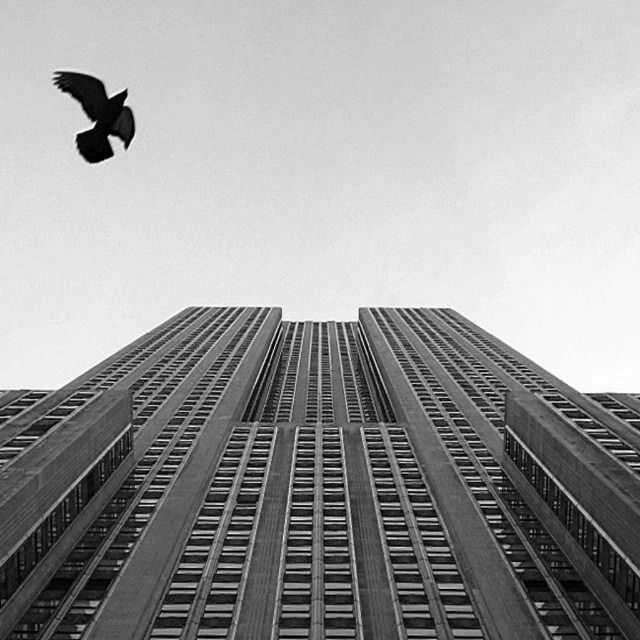Eagle: (45, 61, 137, 165)
